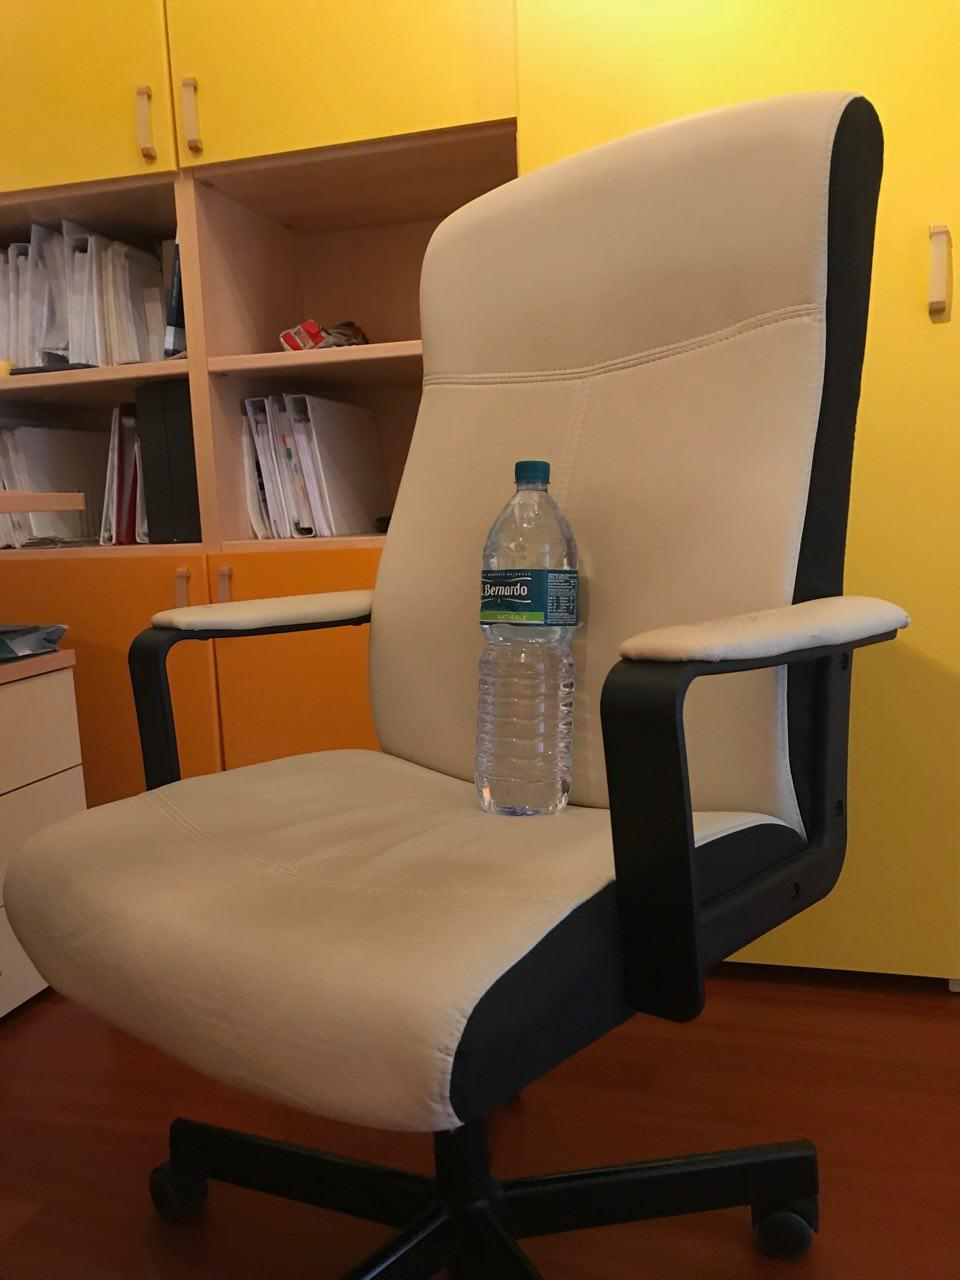san_bernardo: (474, 460, 581, 817)
